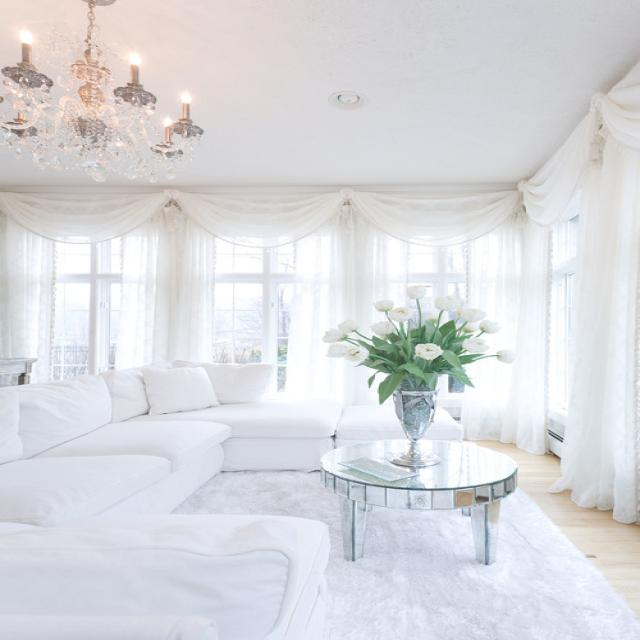white desk: (320, 435, 512, 570)
white sofa: (2, 359, 314, 522)
